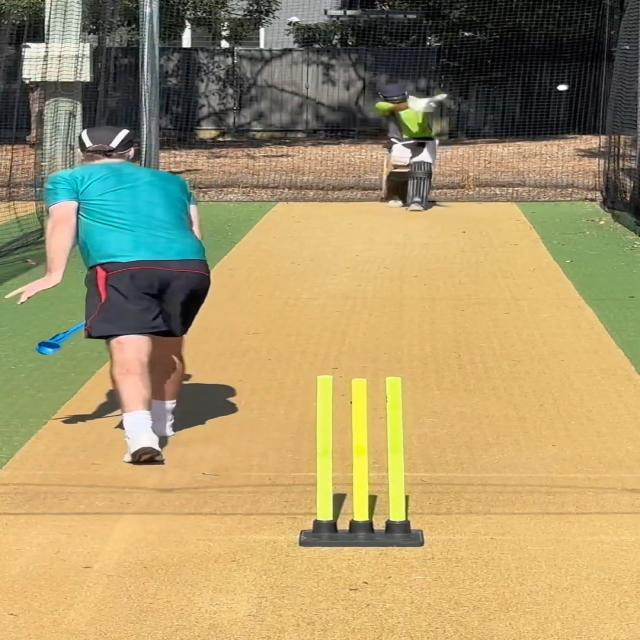ball: (555, 82, 572, 92)
stump: (292, 373, 424, 545)
